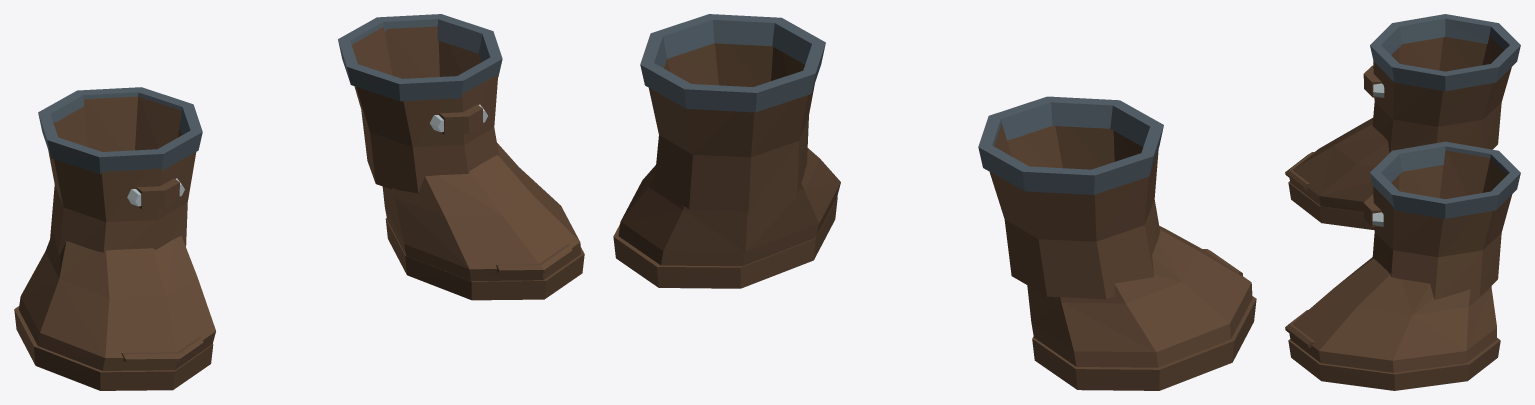
Rendered from studded_feet-male-thickHide.glb.
The picture shows the model from 3 angles, left to right: view 1: azimuth 30°, elevation 25°; view 2: azimuth 150°, elevation 25°; view 3: azimuth 270°, elevation 25°; orthographic projection. The views are drawn at different scales.
Parts seen in each view (by area): view 1: studded boot foot -1, studded boot foot 1, studded boot upper -1, studded boot upper 1, Turned boot cuff 1, Turned boot cuff -1, Boot sole -1, Boot sole 1, Heavy hide binding studded boot upper 1, Heavy hide binding studded boot upper -1, Boot toe welt -1, Boot toe welt 1; view 2: studded boot upper -1, studded boot upper 1, studded boot foot -1, studded boot foot 1, Turned boot cuff 1, Turned boot cuff -1, Boot sole -1, Boot sole 1; view 3: studded boot foot 1, studded boot upper 1, studded boot upper -1, Turned boot cuff -1, Turned boot cuff 1, studded boot foot -1, Boot sole 1, Boot sole -1, Boot toe welt 1, Heavy hide binding studded boot upper -1, Heavy hide binding studded boot upper 1, Boot toe welt -1.
Part boxes in pixels (x1,y1,x2,y2): studded boot foot -1: (18, 232, 215, 370); studded boot foot 1: (382, 143, 580, 280); studded boot upper -1: (48, 96, 196, 255); studded boot upper 1: (351, 26, 499, 193); Turned boot cuff 1: (338, 14, 502, 101); Turned boot cuff -1: (38, 87, 202, 174); Boot sole -1: (14, 306, 213, 390); Boot sole 1: (385, 218, 584, 300); Heavy hide binding studded boot upper 1: (439, 104, 482, 135); Heavy hide binding studded boot upper -1: (136, 178, 179, 209); Boot toe welt -1: (121, 337, 203, 362); Boot toe welt 1: (495, 244, 572, 273); studded boot upper -1: (989, 123, 1160, 299); studded boot upper 1: (649, 43, 814, 211); studded boot foot -1: (1027, 226, 1252, 367); studded boot foot 1: (618, 148, 840, 266); Turned boot cuff 1: (640, 14, 825, 112); Turned boot cuff -1: (978, 96, 1163, 194); Boot sole -1: (1032, 296, 1256, 390); Boot sole 1: (613, 196, 837, 288); studded boot foot 1: (1289, 257, 1496, 372); studded boot upper 1: (1372, 150, 1512, 299); studded boot upper -1: (1372, 34, 1511, 152); Turned boot cuff -1: (1370, 14, 1520, 91); Turned boot cuff 1: (1370, 141, 1520, 218); studded boot foot -1: (1289, 118, 1389, 211); Boot sole 1: (1288, 338, 1500, 390); Boot sole -1: (1288, 181, 1374, 230); Boot toe welt 1: (1285, 310, 1315, 347); Heavy hide binding studded boot upper -1: (1363, 65, 1381, 97); Heavy hide binding studded boot upper 1: (1363, 194, 1381, 226); Boot toe welt -1: (1285, 152, 1314, 189).
Size of the model in its own units: 2.95 by 1.03 by 1.3.
